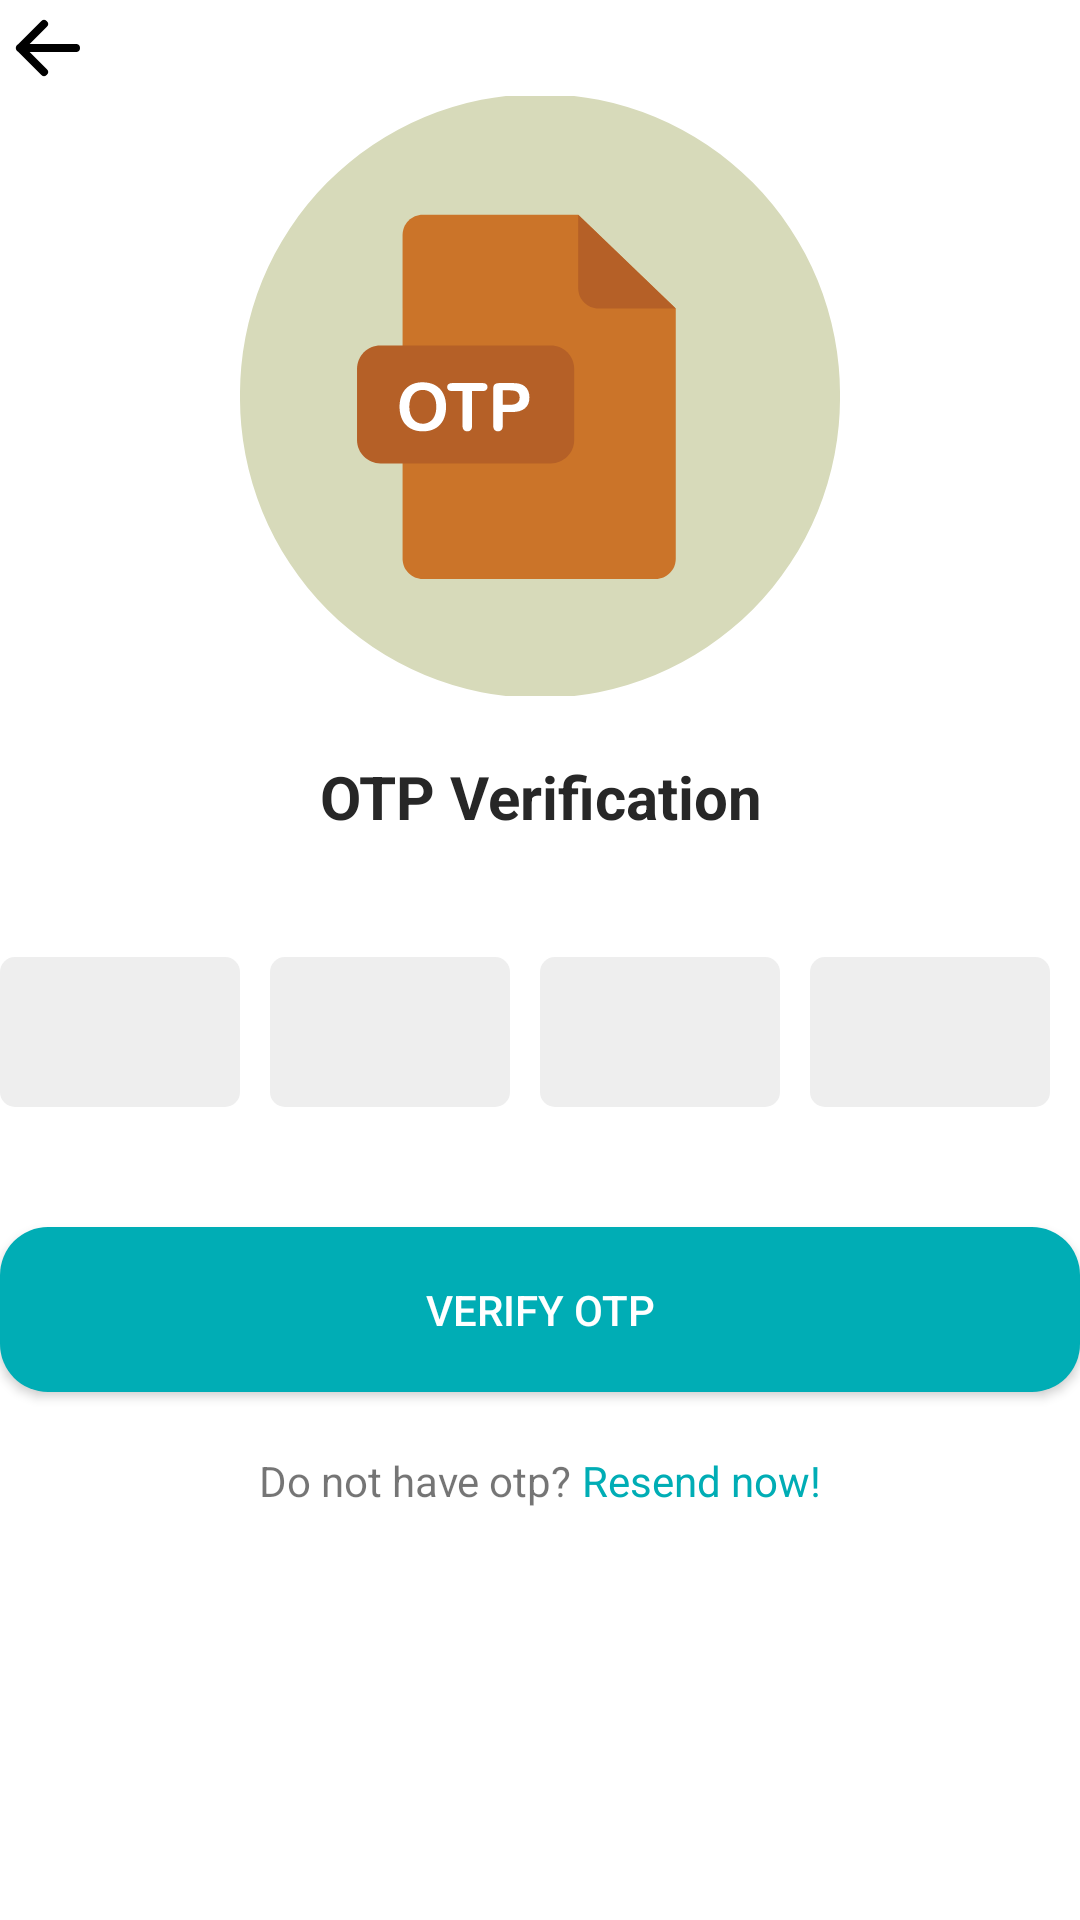

Where to tap for icons on this 1080×1920 app screen, as [x,y]:
arrow: [47,48]
